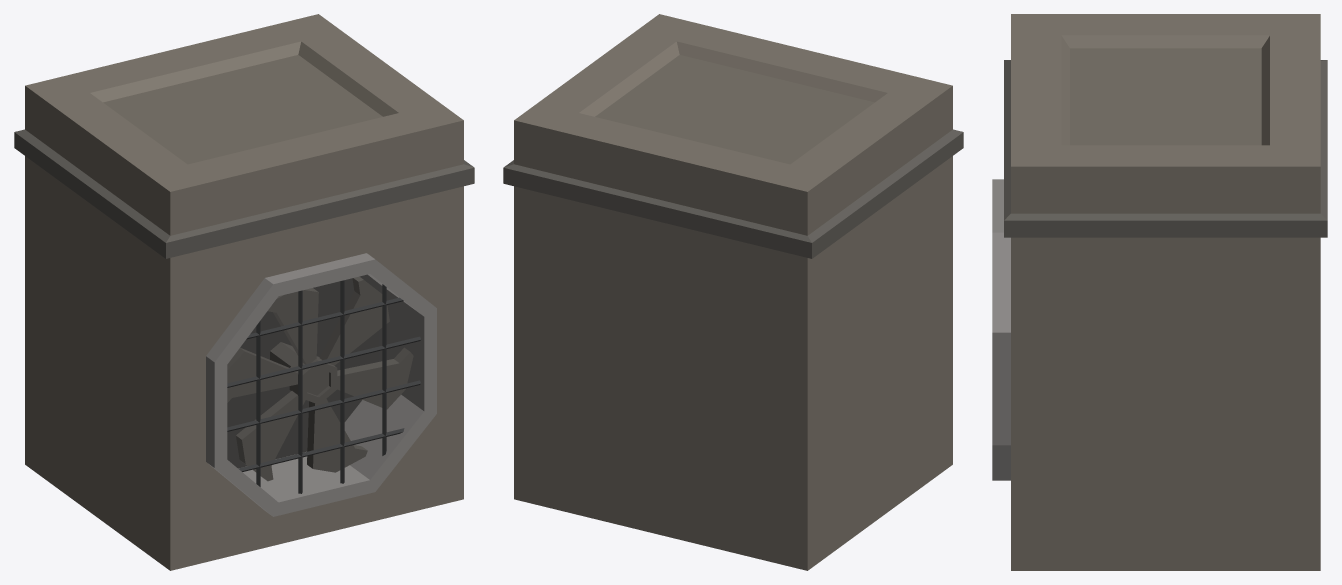
Rendered from SM_Props_Roof_Vent_AC_Unit_04.fbx.
3 renders of one model, left to right at view 1: azimuth 30°, elevation 25°; view 2: azimuth 150°, elevation 25°; view 3: azimuth 270°, elevation 25°, orthographic. The views are drawn at different scales.
Visible parts, largest first — view 1: SM_Props_Roof_Vent_AC_Unit_04, SM_Props_Roof_Vent_AC_Unit_04_Fan; view 2: SM_Props_Roof_Vent_AC_Unit_04; view 3: SM_Props_Roof_Vent_AC_Unit_04.
Boxes of the visible parts, box(x1,y1,x2,y2) form: SM_Props_Roof_Vent_AC_Unit_04: box(14, 14, 474, 570); SM_Props_Roof_Vent_AC_Unit_04_Fan: box(227, 276, 413, 481); SM_Props_Roof_Vent_AC_Unit_04: box(503, 14, 963, 570); SM_Props_Roof_Vent_AC_Unit_04: box(992, 14, 1327, 570).
Size of the model in its own units: 147 by 173 by 130.
